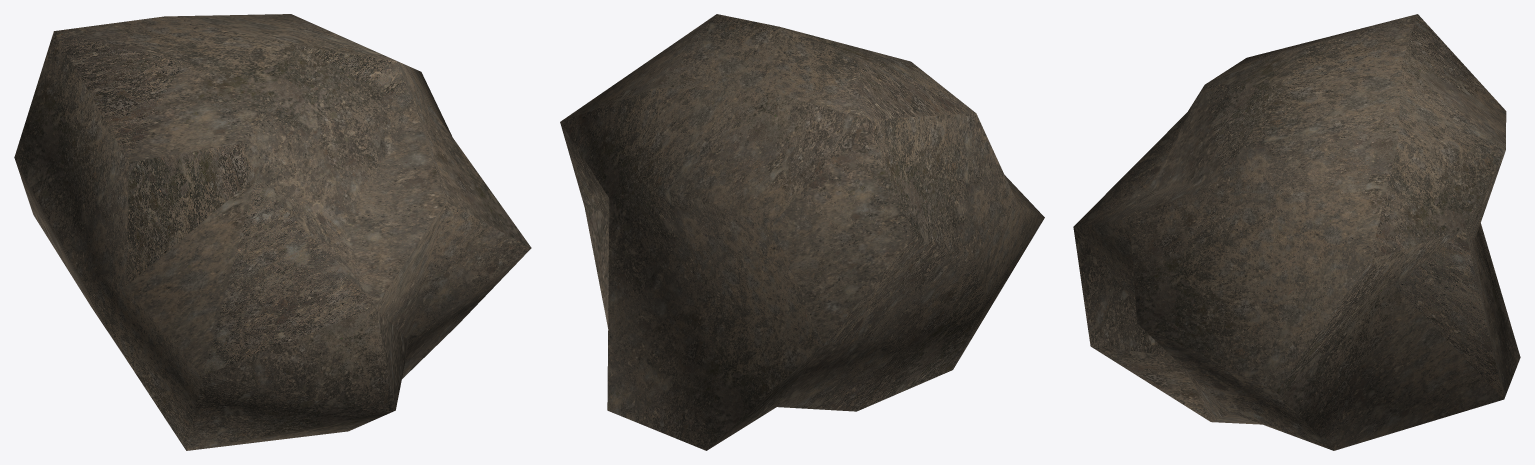
File: rock1.fbx
3 views of the same model, side by side, from view 1: azimuth 30°, elevation 25°; view 2: azimuth 150°, elevation 25°; view 3: azimuth 270°, elevation 25° (orthographic). The views are drawn at different scales.
Visible parts, largest first — view 1: Icosphere; view 2: Icosphere; view 3: Icosphere.
Boxes of the visible parts, x1,y1,x2,y2 form: Icosphere: (14,14,531,450); Icosphere: (560,14,1044,450); Icosphere: (1073,14,1520,450).
Bounding box in the file's own units: 210 × 176 × 217.
